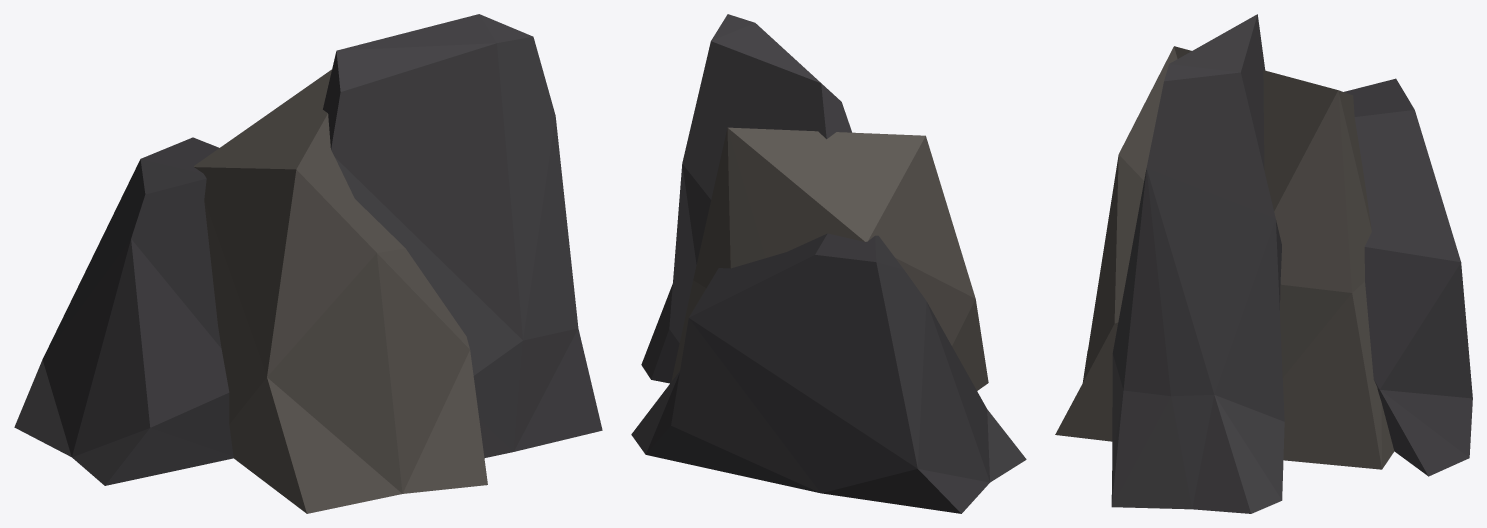
Rendered from AO_Rock07.fbx.
3 views of the same model, side by side, from view 1: azimuth 30°, elevation 25°; view 2: azimuth 150°, elevation 25°; view 3: azimuth 270°, elevation 25° (orthographic). The views are drawn at different scales.
Parts seen in each view (by area): view 1: AO_Rock07; view 2: AO_Rock07; view 3: AO_Rock07.
Part boxes in pixels (<box>): AO_Rock07: <box>14,14,602,513</box>; AO_Rock07: <box>631,14,1026,513</box>; AO_Rock07: <box>1055,14,1472,513</box>.
Bounding box in the file's own units: 334 × 273 × 256.
1 material, 1 textured.
